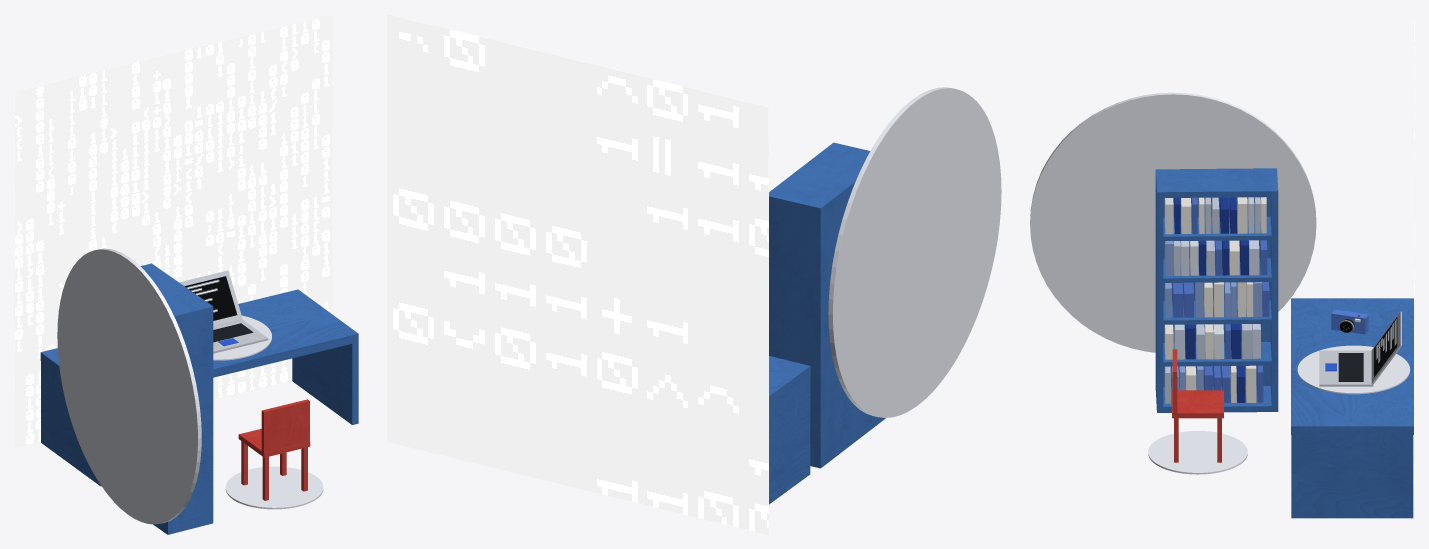
Rendered from hero-room.glb.
3 renders of one model, left to right at view 1: azimuth 30°, elevation 25°; view 2: azimuth 150°, elevation 25°; view 3: azimuth 270°, elevation 25°, orthographic. The views are drawn at different scales.
Visible parts, largest first — view 1: LedWall, BackdropDisc, Tabletop, BookcaseSideL, Cube.002, DiscChair, Cube.001, ChairBack, BookcaseTop, LaptopScreenContent, DiscLaptop, LaptopBase (+3 smaller); view 2: LedWall, BackdropDisc, BookcaseSideR, Cube.001, BookcaseBack, BookcaseTop, Tabletop; view 3: BackdropDisc, Tabletop, Cube.002, BookcaseTop, DiscChair, DiscLaptop, BookcaseSideL, BookcaseSideR, BookcaseBack, ChairSeat, BookcaseShelf.3, LaptopBase (+9 smaller).
Part boxes in pixels (bbox=[...]): LedWall: bbox=[14, 14, 332, 448]; BackdropDisc: bbox=[57, 248, 201, 524]; Tabletop: bbox=[40, 289, 358, 377]; BookcaseSideL: bbox=[164, 307, 213, 532]; Cube.002: bbox=[292, 342, 358, 424]; DiscChair: bbox=[225, 466, 323, 509]; Cube.001: bbox=[41, 361, 101, 486]; ChairBack: bbox=[261, 399, 309, 452]; BookcaseTop: bbox=[140, 263, 213, 321]; LaptopScreenContent: bbox=[184, 276, 237, 320]; DiscLaptop: bbox=[213, 315, 271, 360]; LaptopBase: bbox=[213, 319, 268, 353]; LedWall: bbox=[387, 14, 768, 534]; BackdropDisc: bbox=[828, 87, 1001, 417]; BookcaseSideR: bbox=[769, 192, 824, 468]; Cube.001: bbox=[769, 377, 810, 504]; BookcaseBack: bbox=[824, 192, 877, 458]; BookcaseTop: bbox=[769, 143, 870, 214]; Tabletop: bbox=[769, 356, 810, 406]; BackdropDisc: bbox=[1030, 92, 1316, 352]; Tabletop: bbox=[1291, 298, 1413, 434]; Cube.002: bbox=[1291, 432, 1413, 518]; BookcaseTop: bbox=[1155, 168, 1274, 197]; DiscChair: bbox=[1148, 431, 1247, 474]; DiscLaptop: bbox=[1297, 345, 1410, 394]; BookcaseSideL: bbox=[1155, 170, 1163, 412]; BookcaseSideR: bbox=[1270, 168, 1278, 411]; BookcaseBack: bbox=[1163, 197, 1270, 386]; ChairSeat: bbox=[1172, 390, 1223, 418]; BookcaseShelf.3: bbox=[1163, 216, 1271, 241]; LaptopBase: bbox=[1319, 350, 1373, 386].
Size of the model in its own units: 3.51 by 3.7 by 3.55.
Materials: 26 (7 with a texture image).
